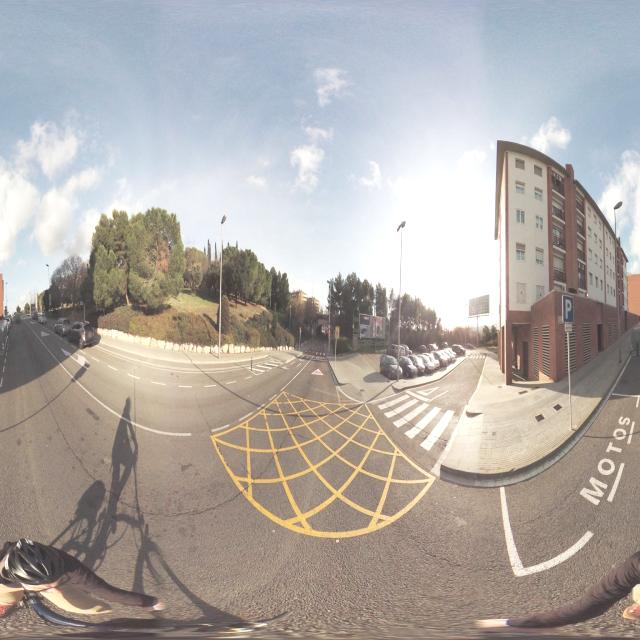car: (379, 354, 404, 380), (416, 351, 437, 371), (60, 318, 72, 336), (451, 342, 466, 356), (54, 317, 64, 333), (31, 310, 40, 323)
